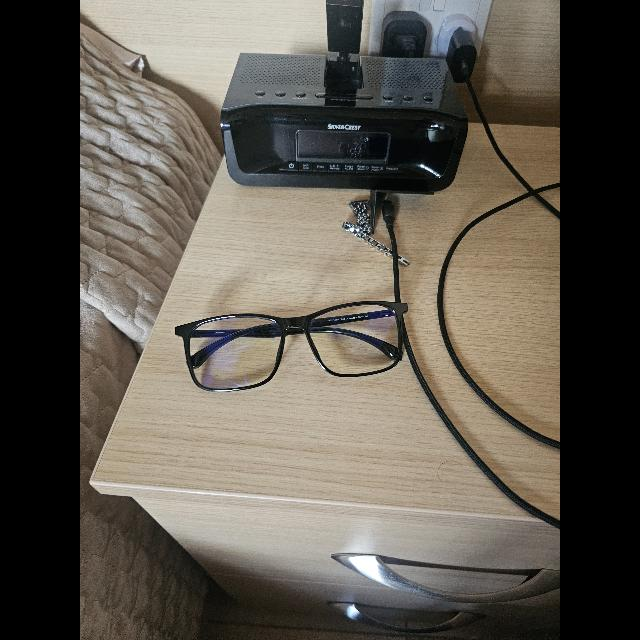glasses: (175, 301, 407, 391)
